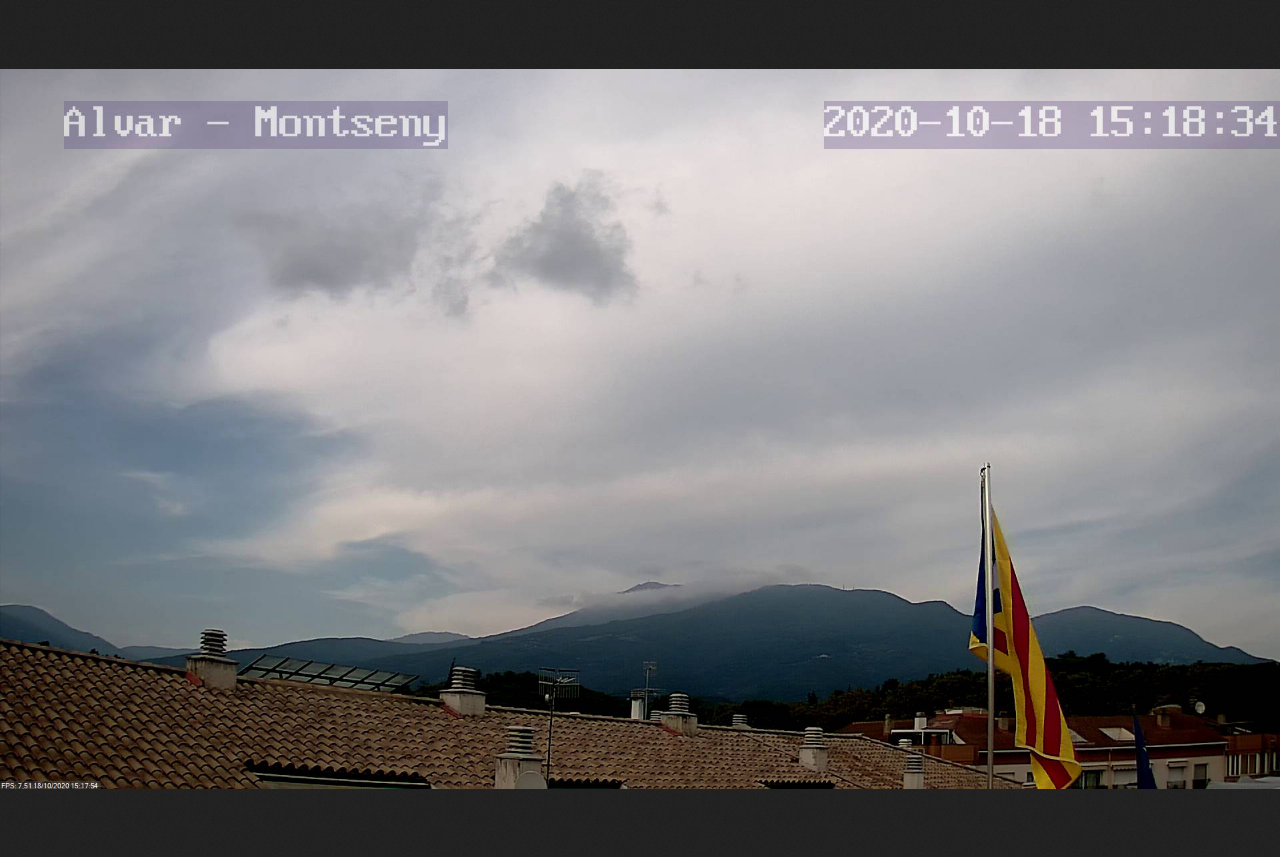no: (962, 472, 1090, 790)
